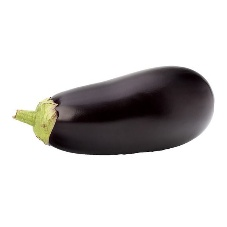eggplant: (31, 67, 215, 160)
